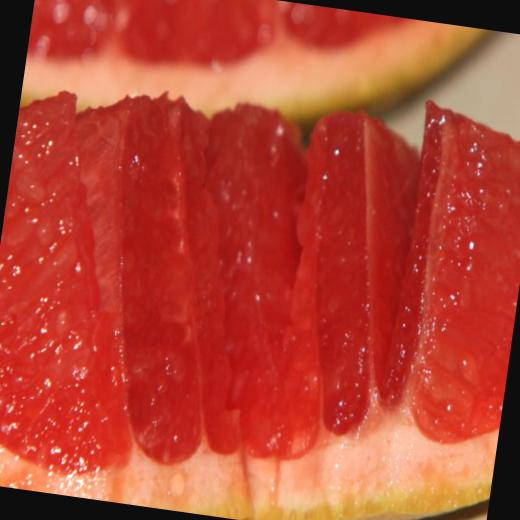Cherry: (0, 41, 520, 520), (19, 0, 496, 170)
